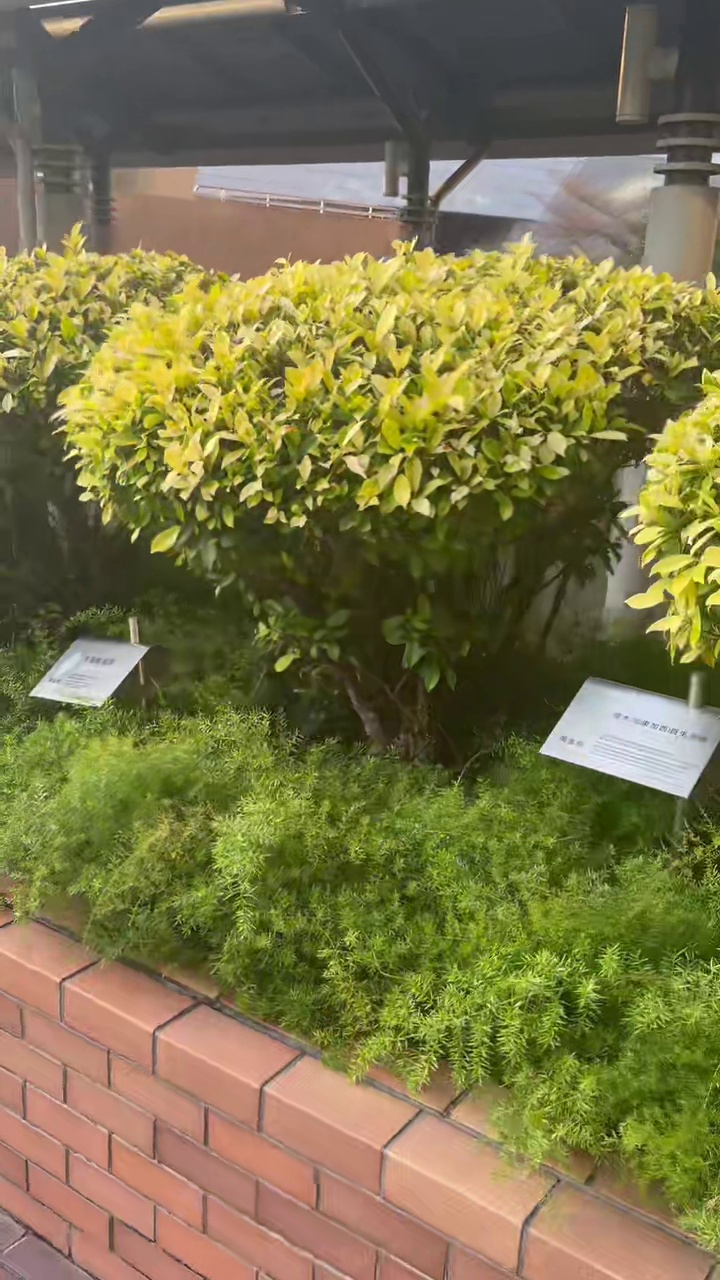Golden-leaves Fig: (58, 242, 719, 758)
